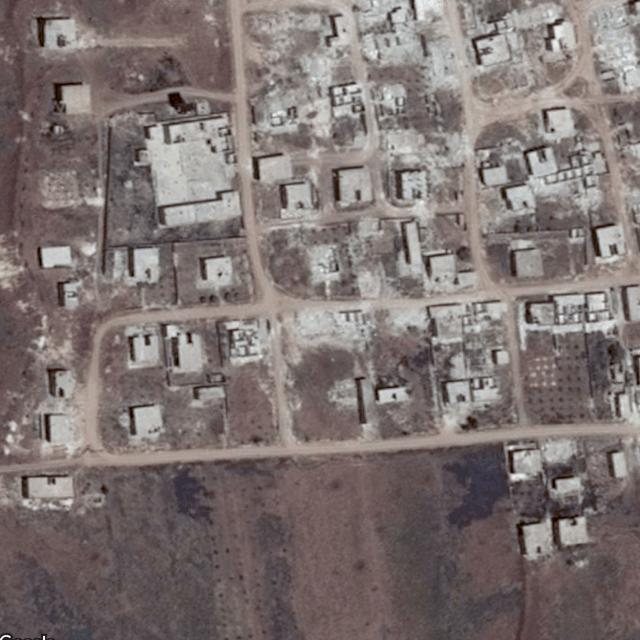damaged_building: (353, 0, 464, 89), (248, 53, 364, 134), (281, 306, 429, 366), (585, 2, 640, 92), (300, 244, 342, 283), (538, 435, 579, 465), (425, 252, 456, 291)
